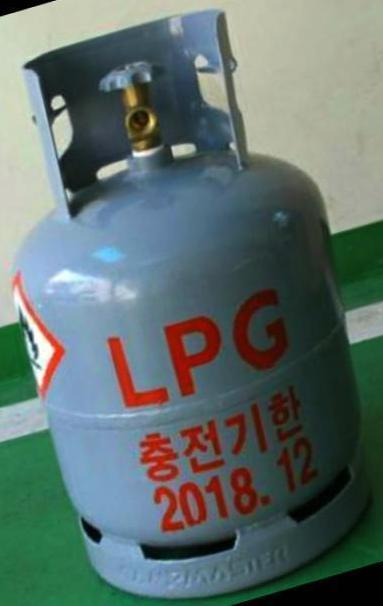cylinder: (0, 1, 383, 606)
